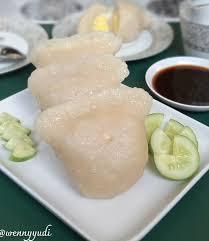Pempek kapal selam: (34, 93, 164, 203), (26, 57, 142, 98)
